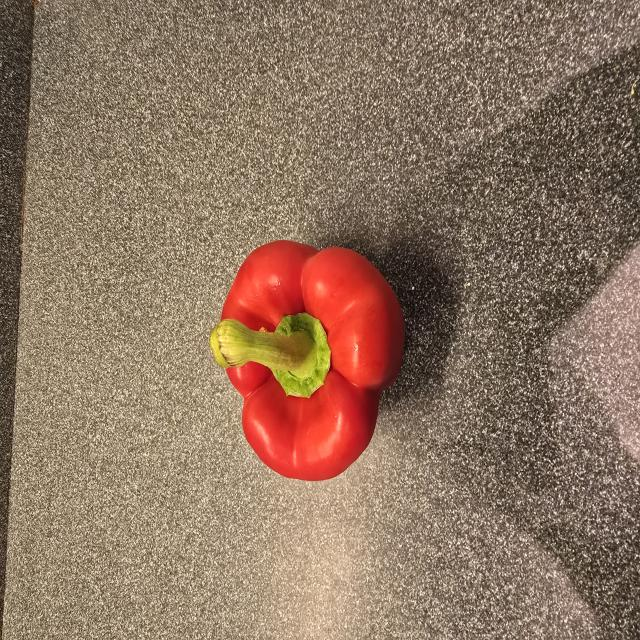Bell Pepper: (200, 228, 413, 489)
